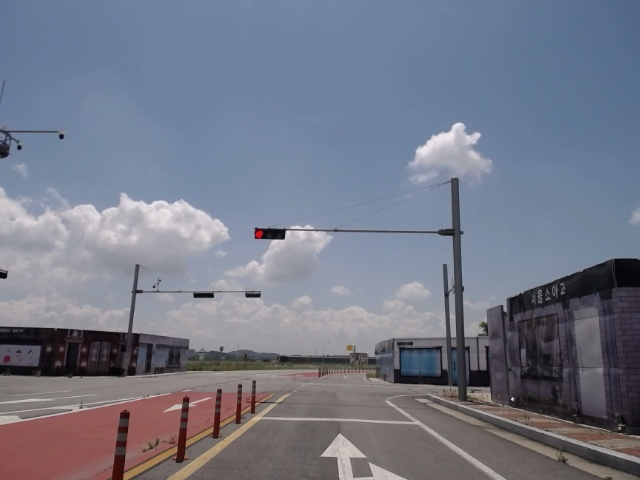red_3: (253, 227, 288, 241)
